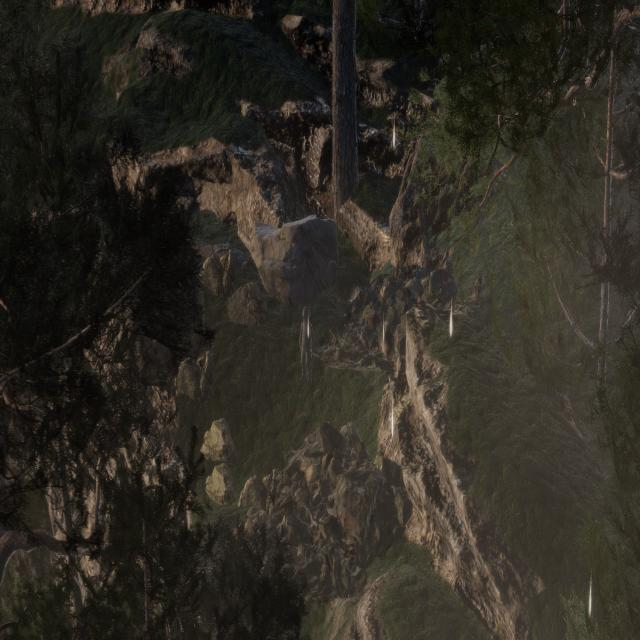Human: (297, 293, 320, 388)
